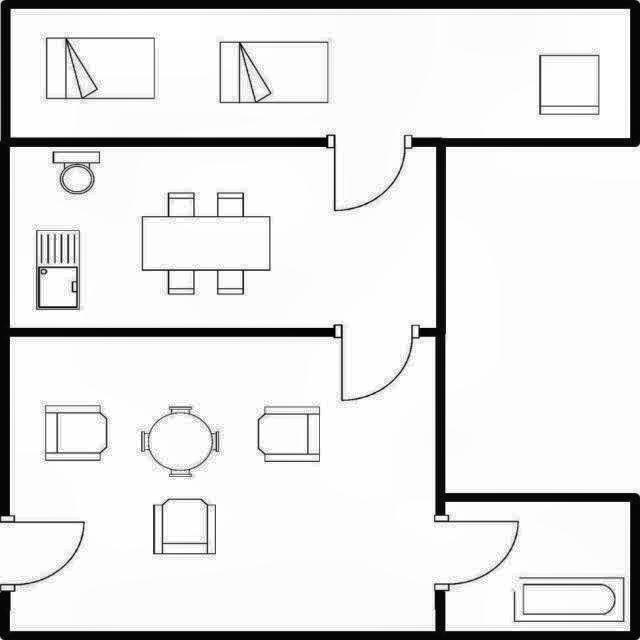room: (10, 337, 435, 631), (10, 9, 630, 138), (10, 147, 436, 328), (445, 502, 630, 631)
